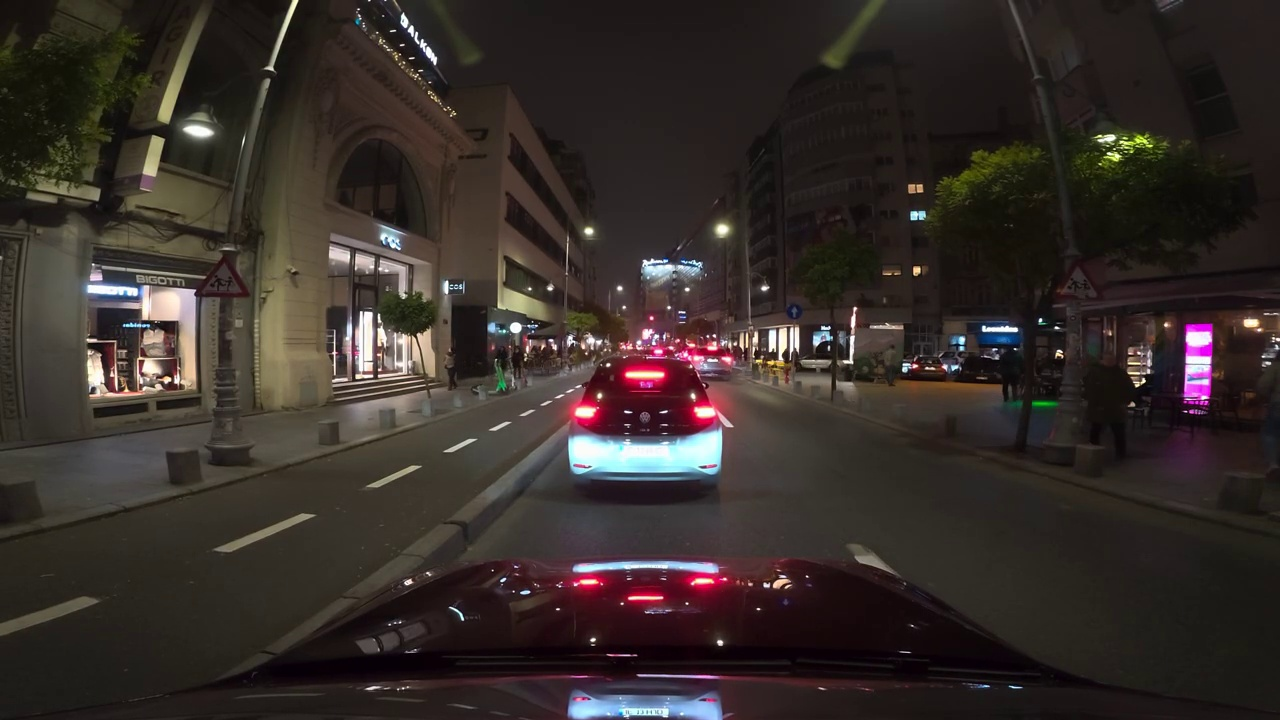acesa: (709, 219, 734, 242), (579, 220, 600, 244)
